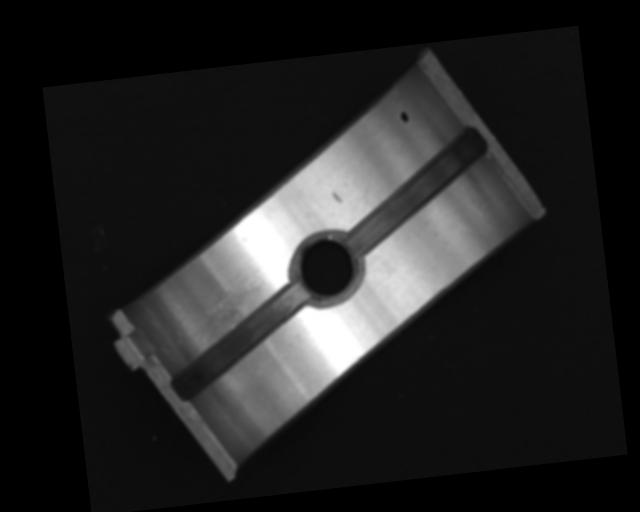blot: (399, 110, 409, 125)
bruise: (331, 191, 342, 205)
gap: (340, 128, 491, 256), (165, 282, 317, 404)
hole: (288, 228, 366, 310)
scratch: (186, 277, 274, 346)
